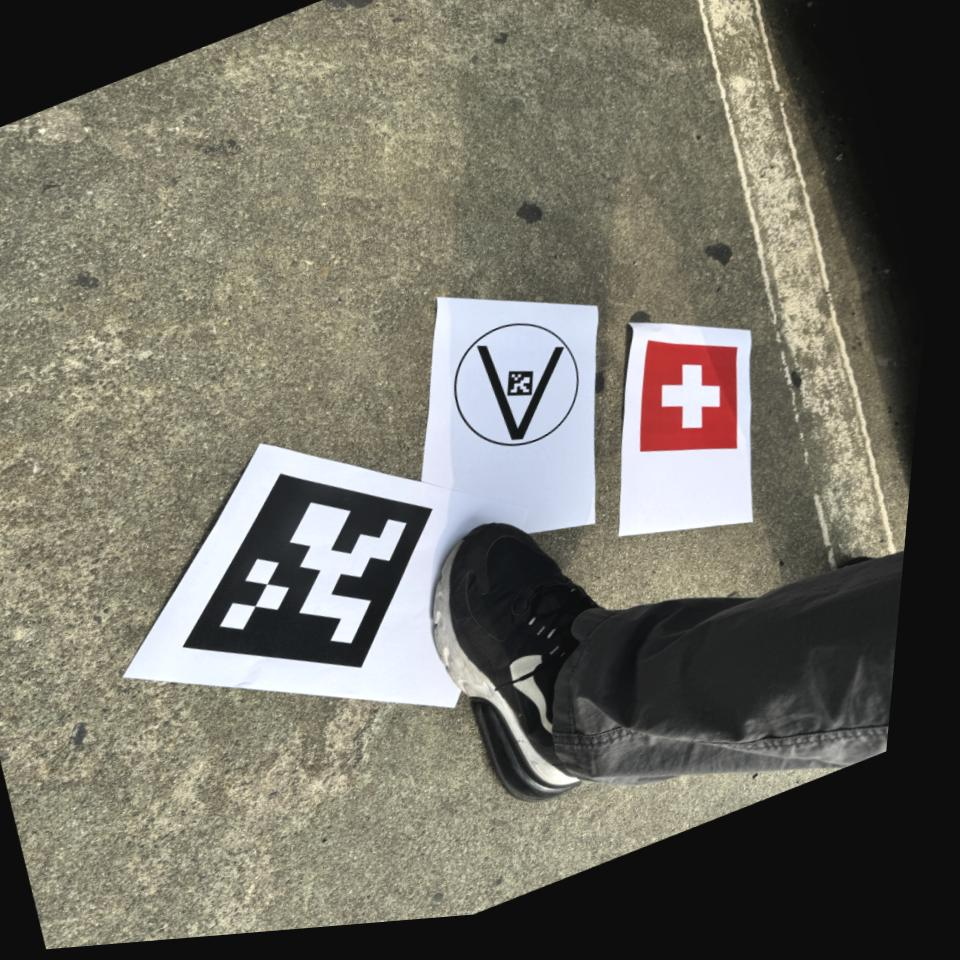ArUro mark: (170, 465, 443, 674)
rescue point: (632, 337, 741, 458)
vertiport: (421, 293, 610, 479)
